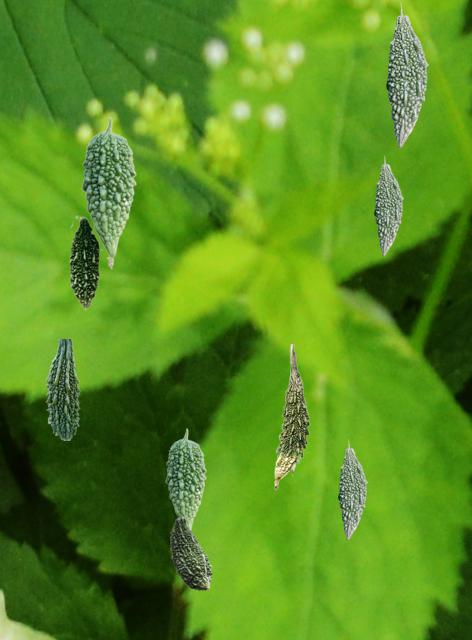ampalaya: (81, 117, 135, 268), (386, 2, 427, 147), (274, 344, 309, 489), (165, 428, 205, 529), (45, 339, 79, 439), (170, 515, 211, 589), (69, 215, 101, 309), (338, 439, 366, 539), (374, 155, 402, 255)
